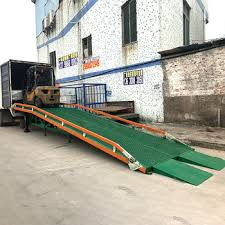Yard Ramp: (11, 102, 225, 187)
